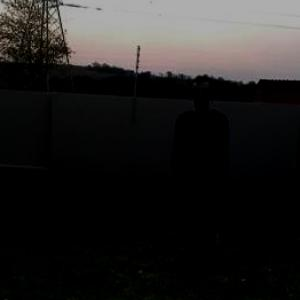follow: (168, 74, 235, 278)
